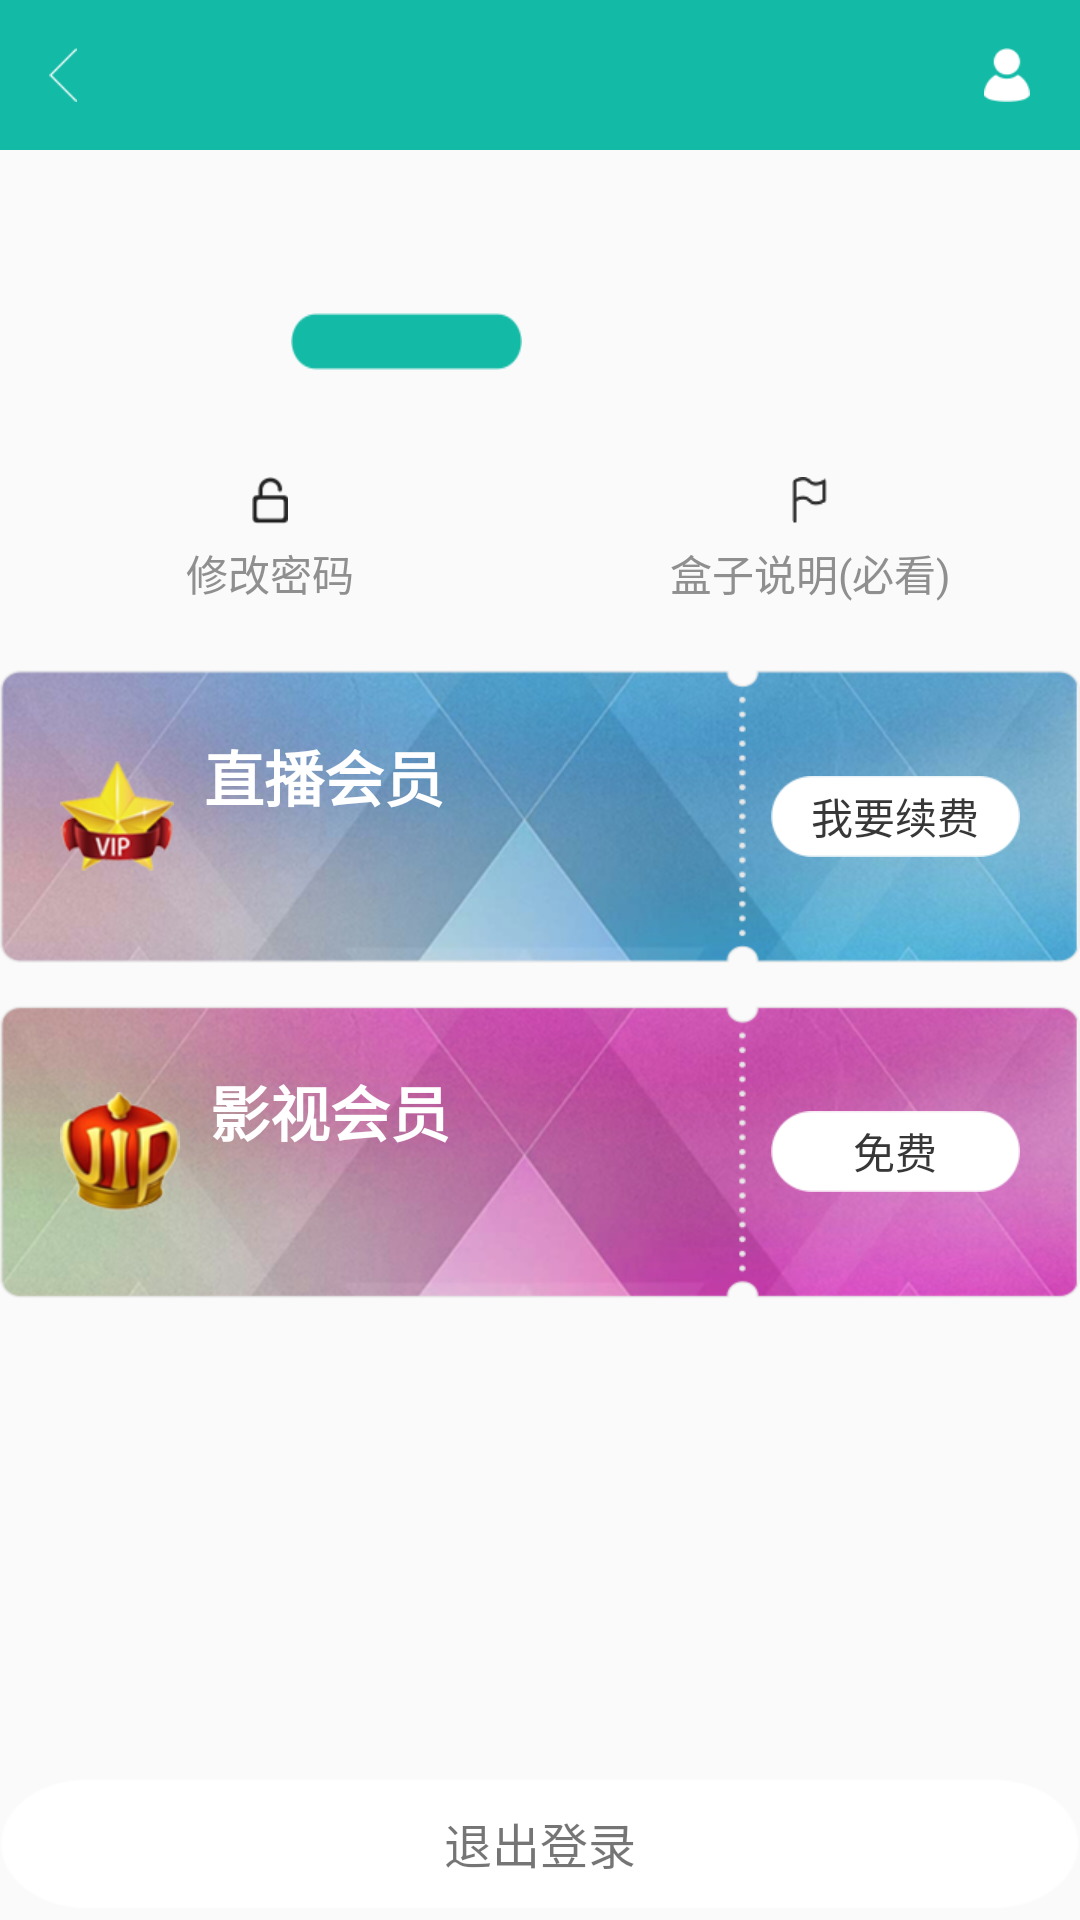

Screen size 1080 × 1920. Icon name, then its center in pixels as (x=x, y=y):
back: (x=63, y=75)
extreme member: (x=90, y=1151)
super member: (x=87, y=816)
user: (x=1007, y=75)
